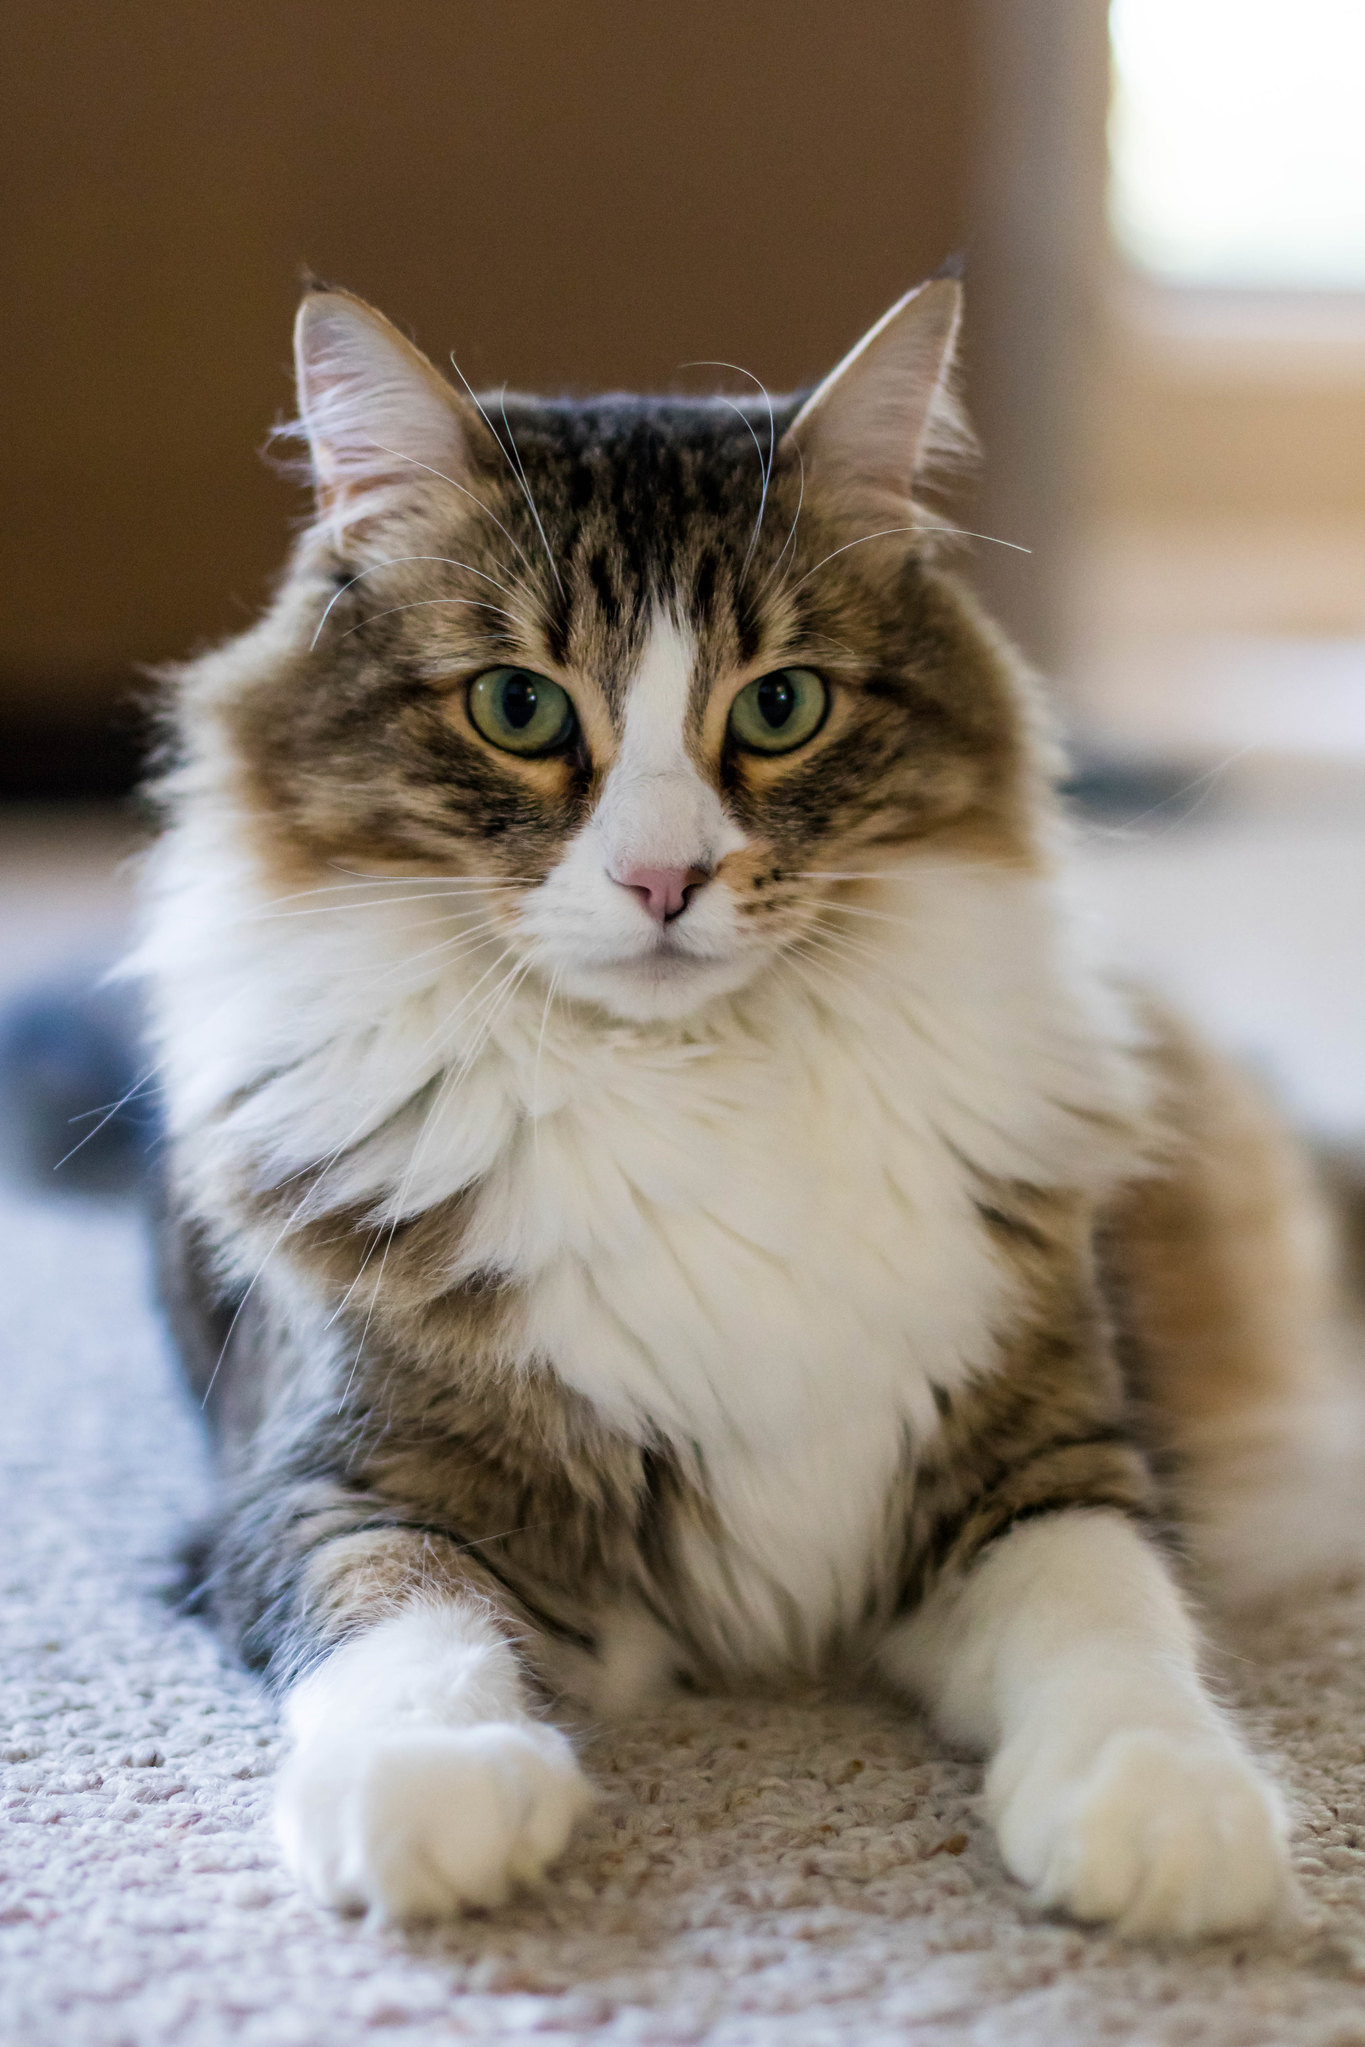cat: (120, 242, 1365, 2004)
